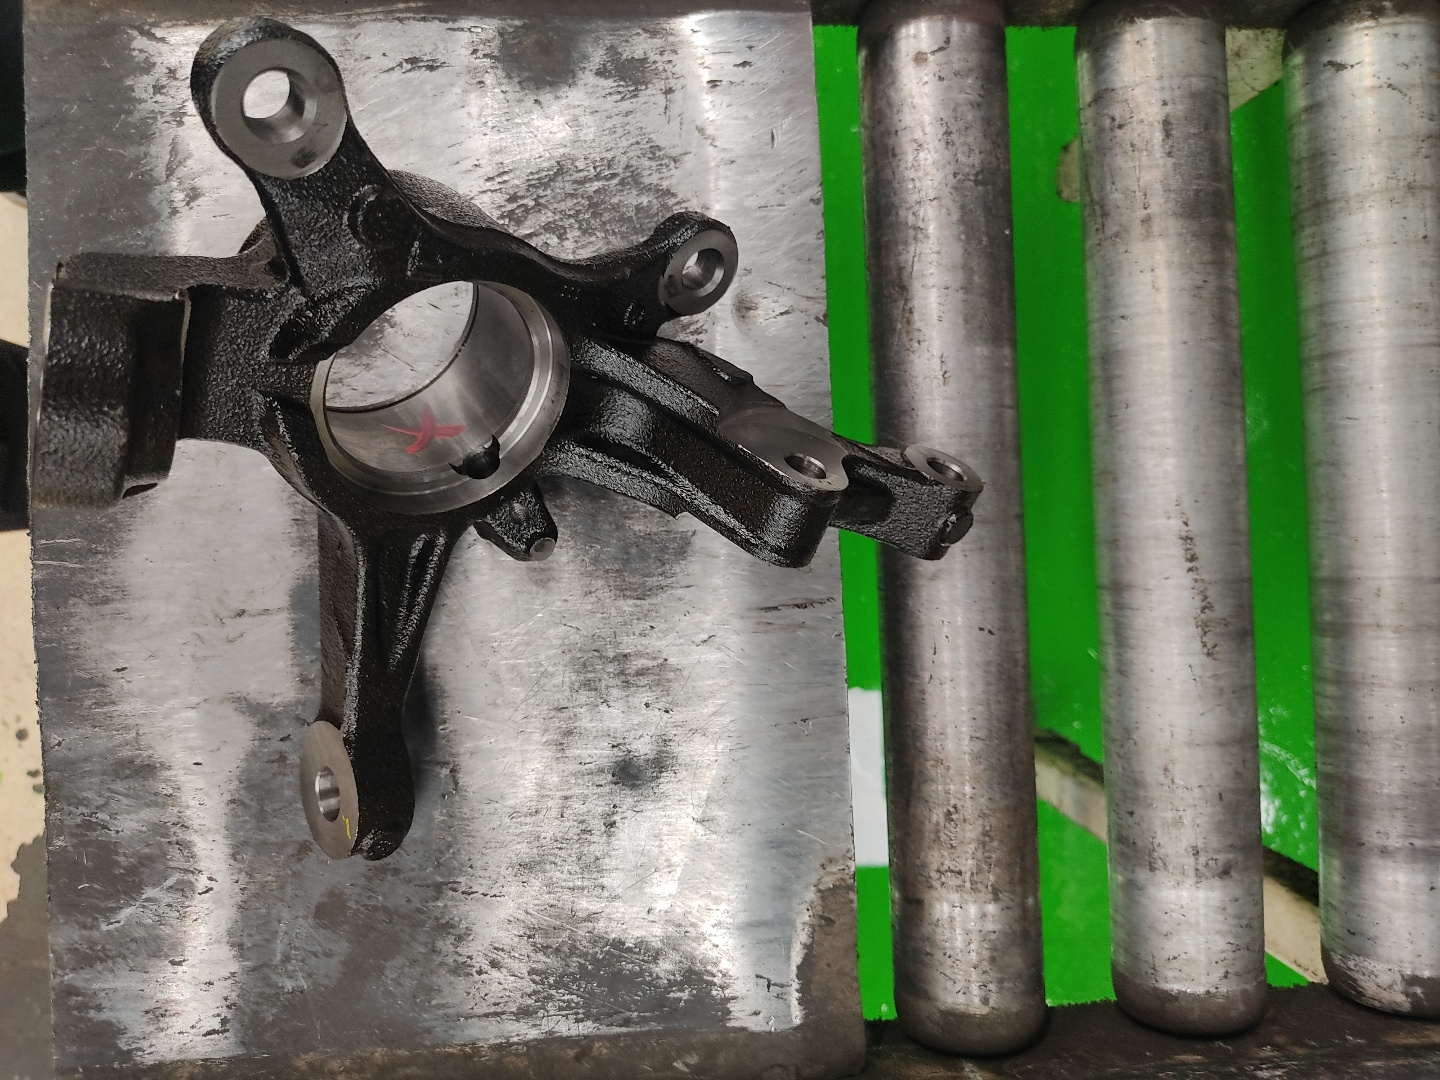abs-rh: (15, 9, 1005, 870)
